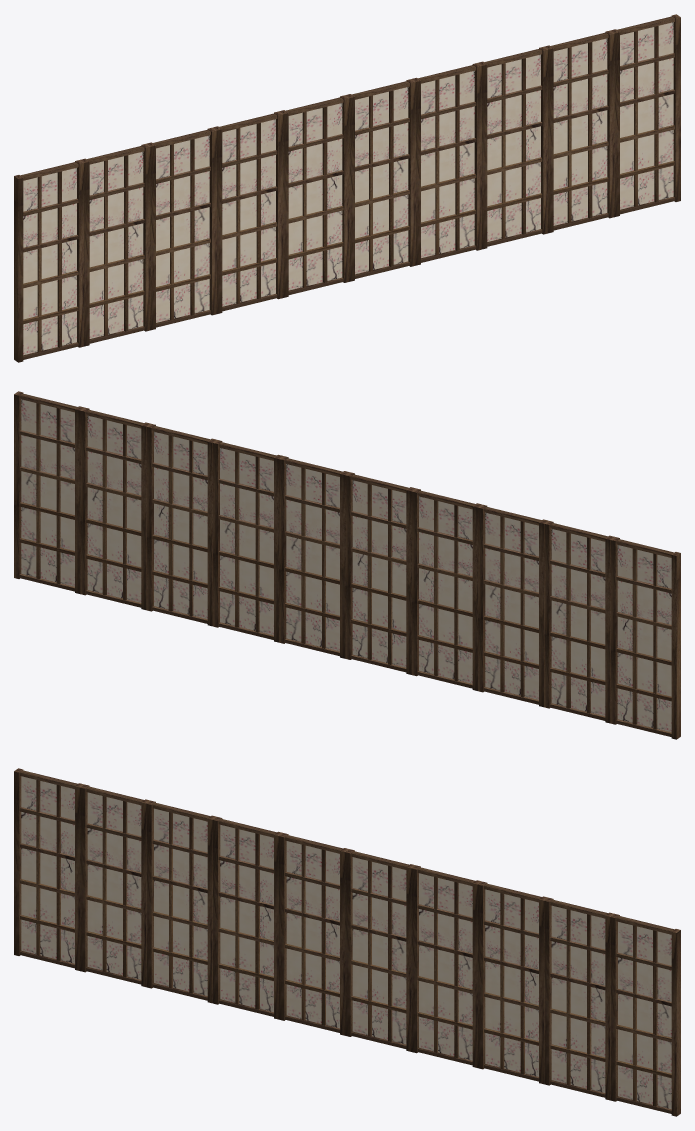
File: Shoji2.fbx
3 renders of one model, top to bottom at view 1: azimuth 30°, elevation 25°; view 2: azimuth 150°, elevation 25°; view 3: azimuth 330°, elevation 25°, orthographic.
Visible parts, largest first — view 1: Plane.003; view 2: Plane.003; view 3: Plane.003.
Boxes of the visible parts, x1,y1,x2,y2 form: Plane.003: (14,14,680,362); Plane.003: (14,391,680,739); Plane.003: (14,768,680,1116).
Bounding box in the file's own units: 761 × 201 × 8.5.
Materials: 1 (1 with a texture image).
